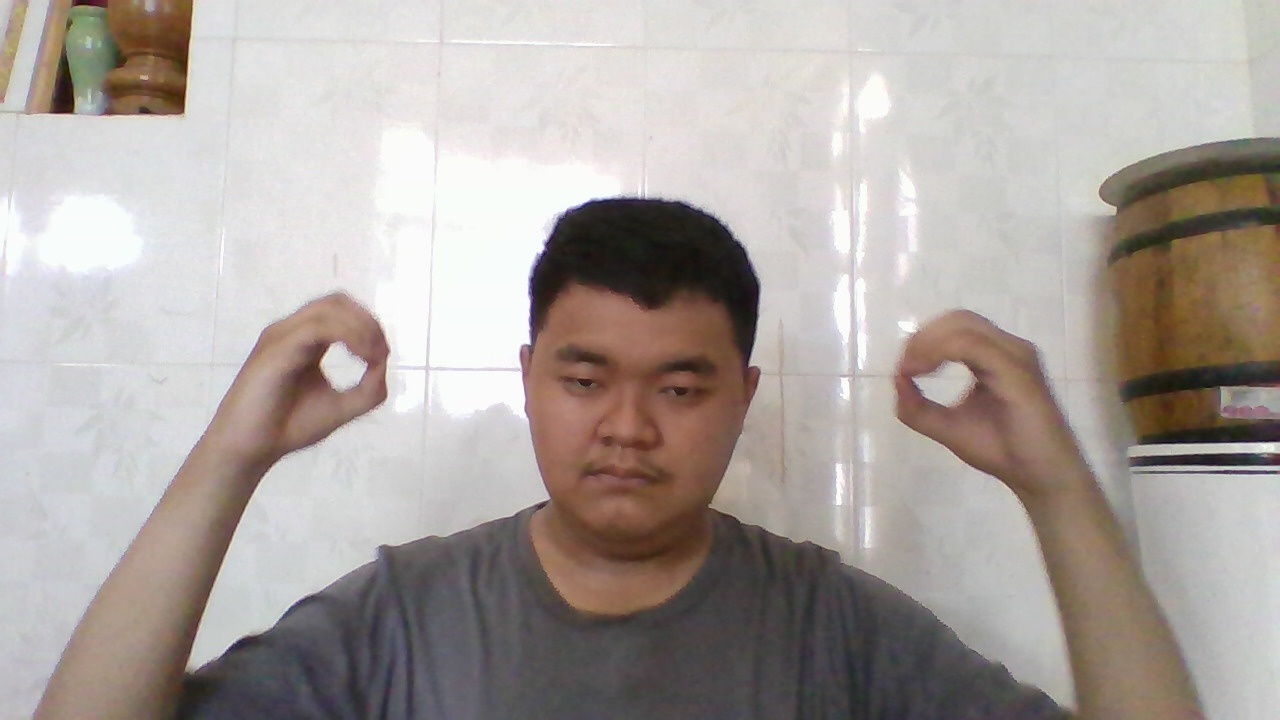O: (886, 300, 1062, 501), (228, 283, 397, 467)
